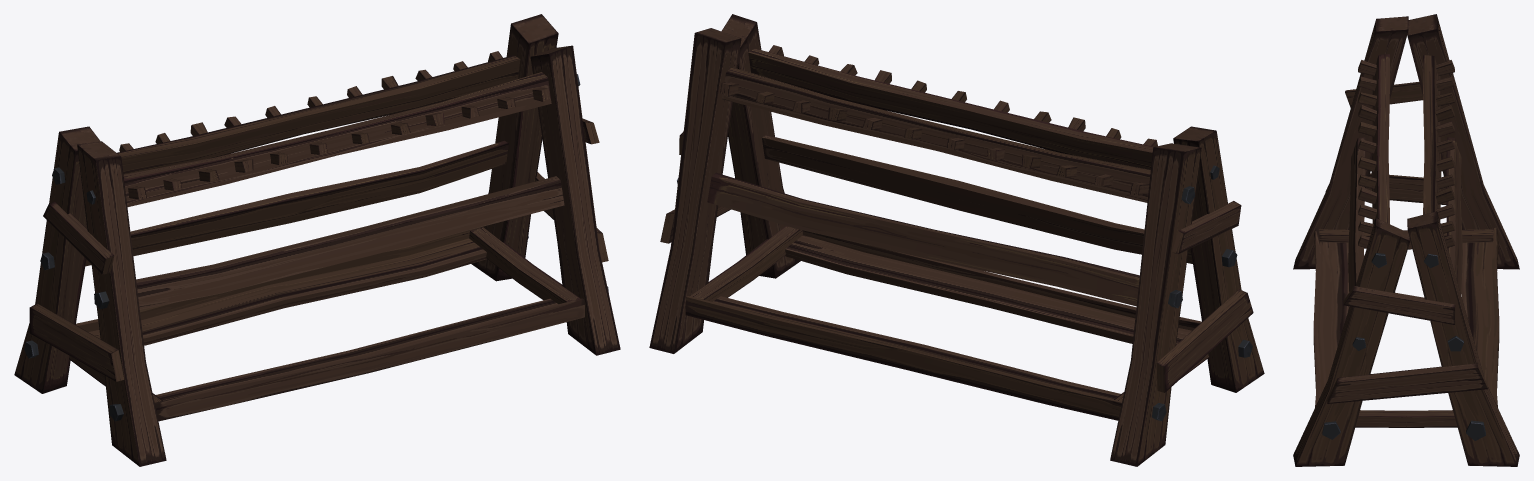
File: SM_PROP_weaponrack_battle.fbx
3 renders of one model, left to right at view 1: azimuth 30°, elevation 25°; view 2: azimuth 150°, elevation 25°; view 3: azimuth 270°, elevation 25°, orthographic. The views are drawn at different scales.
Visible parts, largest first — view 1: SM_PROP_weaponrack_battle; view 2: SM_PROP_weaponrack_battle; view 3: SM_PROP_weaponrack_battle.
Part boxes in pixels (left/top/right/bottom): SM_PROP_weaponrack_battle: left=14, top=14, right=620, bottom=466; SM_PROP_weaponrack_battle: left=649, top=14, right=1264, bottom=466; SM_PROP_weaponrack_battle: left=1293, top=14, right=1519, bottom=466.
Size of the model in its own units: 265 by 142 by 119.
